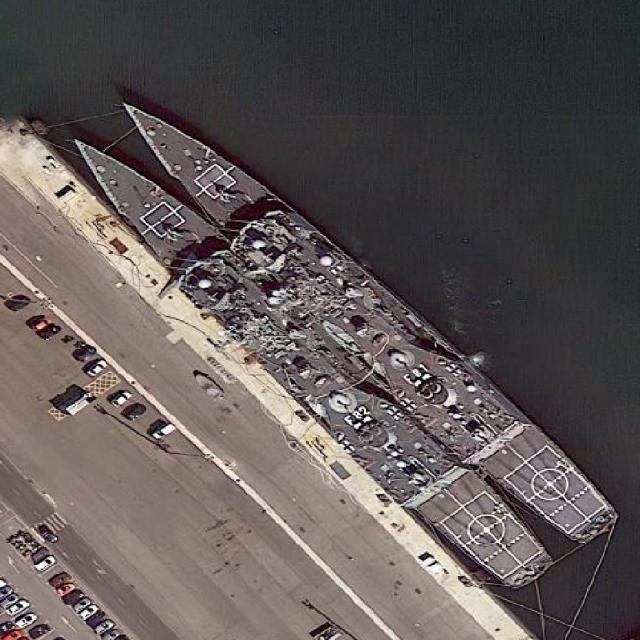Frigate: (103, 74, 625, 554), (57, 109, 555, 602)
